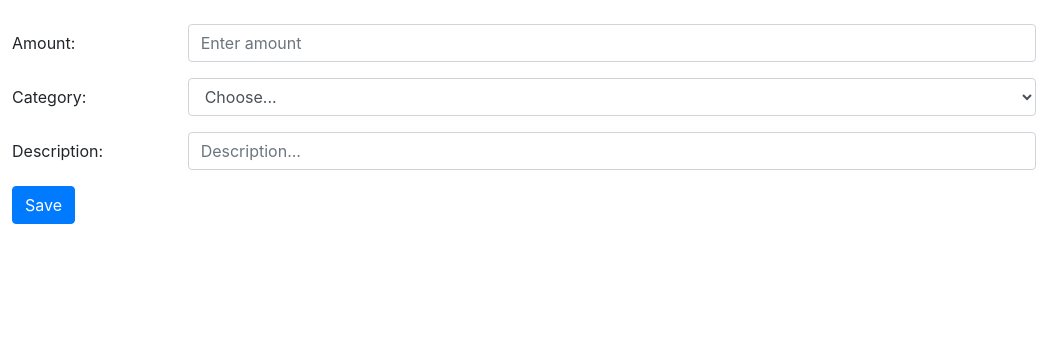
Test: alert nestaje nakon gašenja
This screenshot has width=1048, height=360.
Submit the form
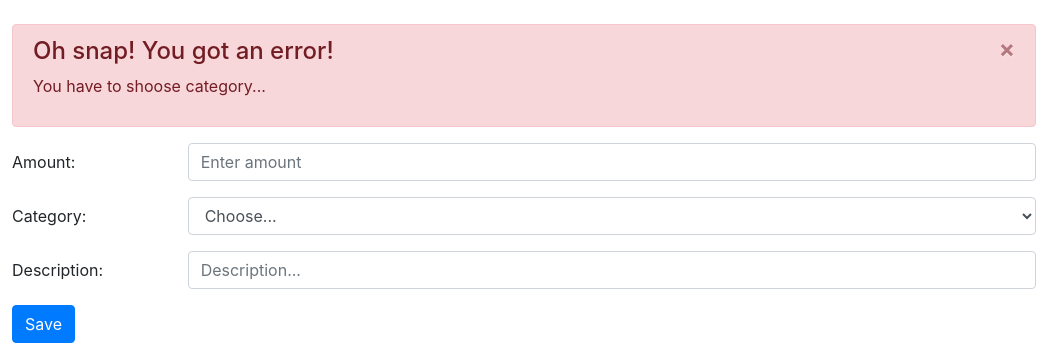
Now the message "× Oh snap! You got an error! You have to shoose category..." is shown
Click the message "× Oh snap! You got an error! You have to shoose category...".
click(524, 75)  # box [12,24,1036,127]
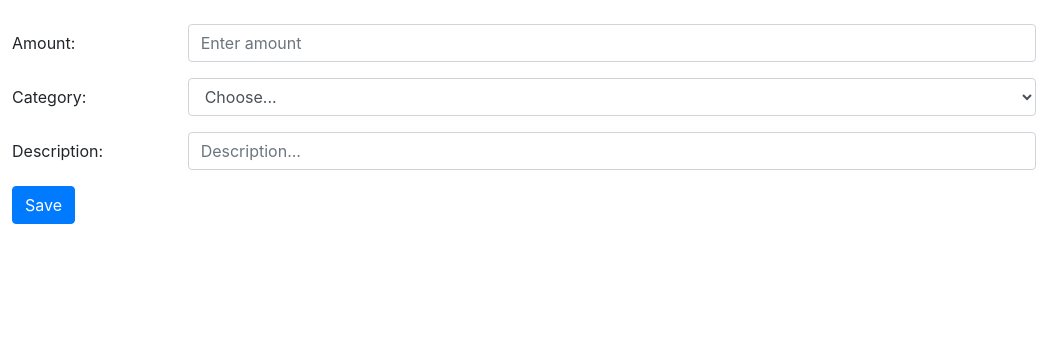
Now the message "× Oh snap! You got an error! You have to shoose category..." is gone
